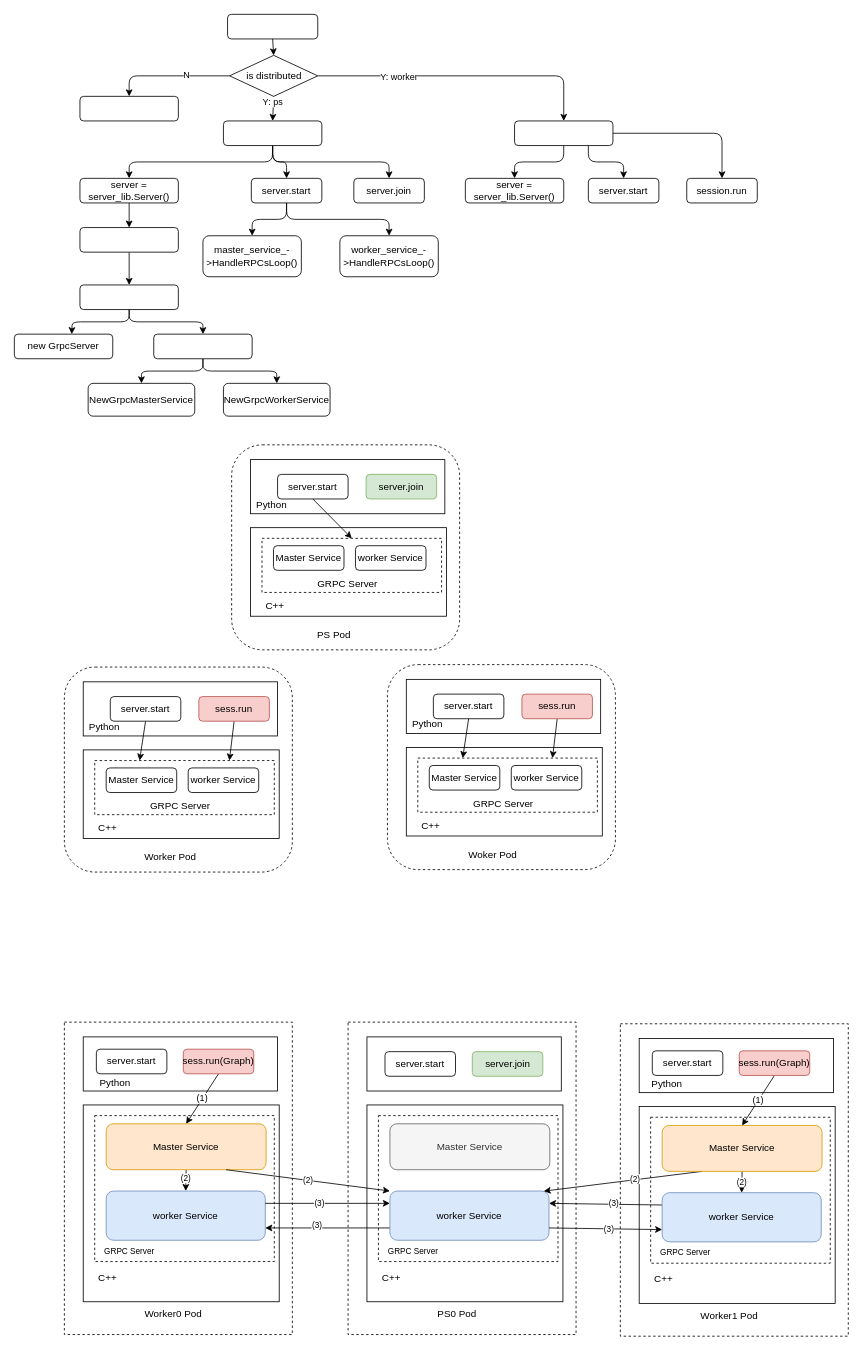
Image size: 863x1351. Some labels were removed from this diagram. Here are the shapes that lost their labels. From the top down, the box of each, then its label:
(227, 14, 318, 39): train_and_evaluate
(79, 96, 178, 121): run_local
(223, 120, 322, 146): run_ps
(514, 120, 613, 146): run_worker
(79, 227, 178, 252): self._server = c_api.TF_NewServer
(79, 284, 178, 310): Status GrpcServer::Create
(153, 333, 252, 359): GrpcServer::Init
